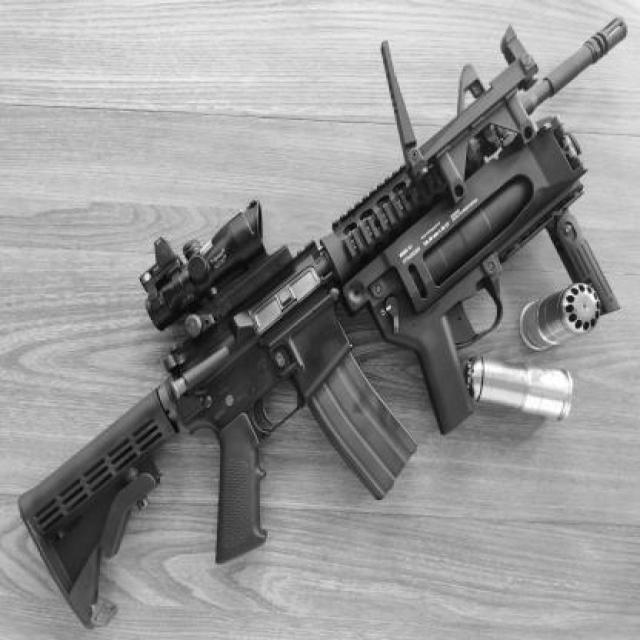weapon: (14, 16, 628, 630)
